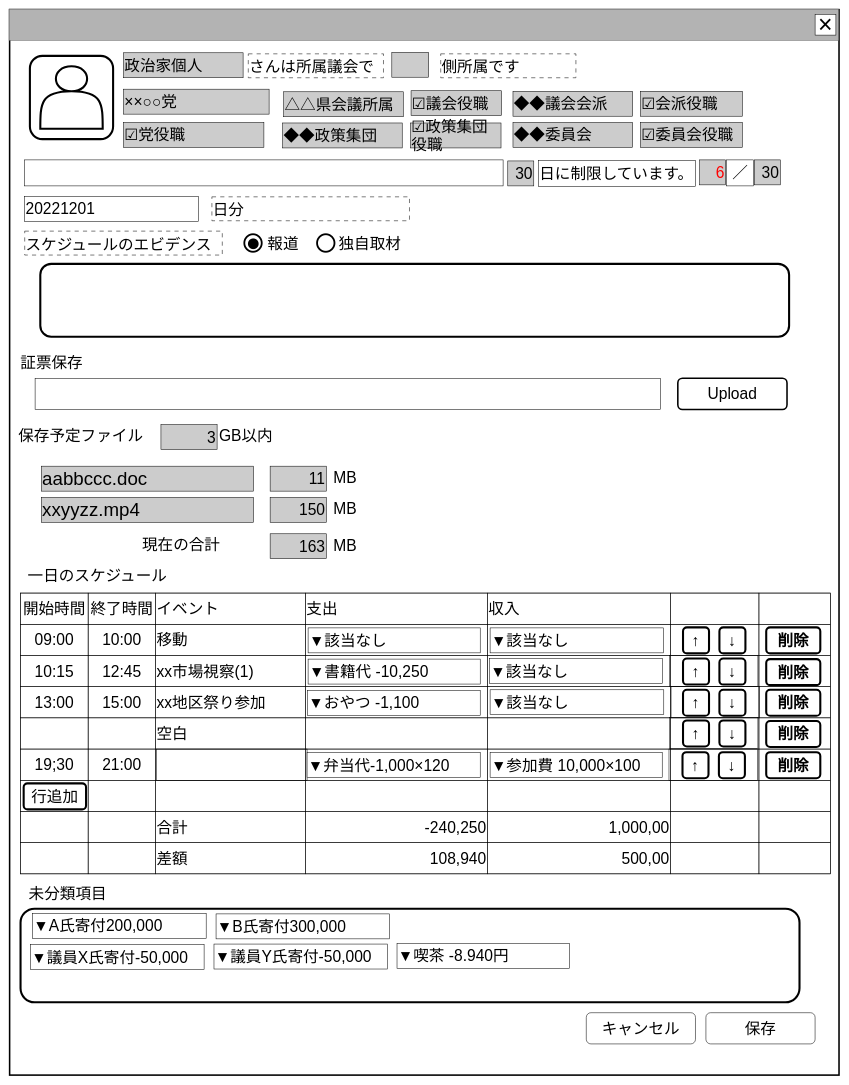
The diagram is 849 pixels wide and 1085 high, and some of its shapes have lost their labels. Here are the shapes that lost their labels. From the top down, the centre of each, then its label:
At pixel 410 64: "多数".
At pixel 263 172: "※日付行動解析は調査対象と調査側双方に負担がかかるので1年間で".
At pixel 414 300: "http://www.yyy.houdou.co.jp/20221211/xxx-yotei.html".
At pixel 231 764: "政策報告会".
